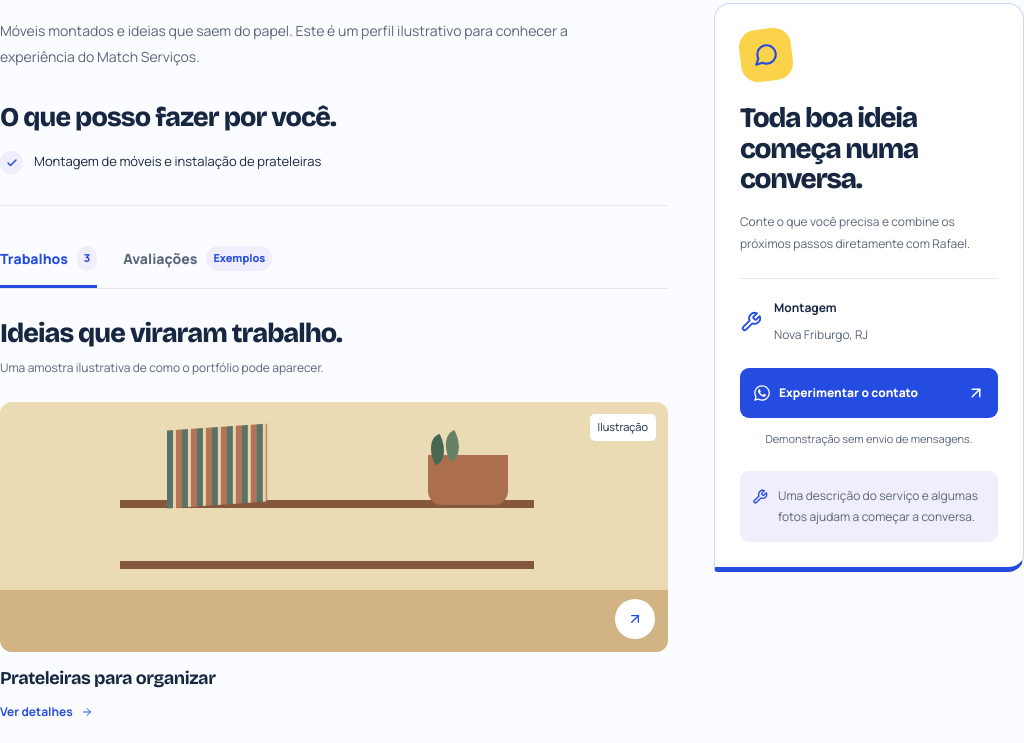
Test case: o contato demonstrativo não envia requisições nem abre WhatsApp
(page scrolled)
Step 1. Click the button "Experimentar o contato" → (869, 393), box top-left (740, 368), bottom-right (998, 418)
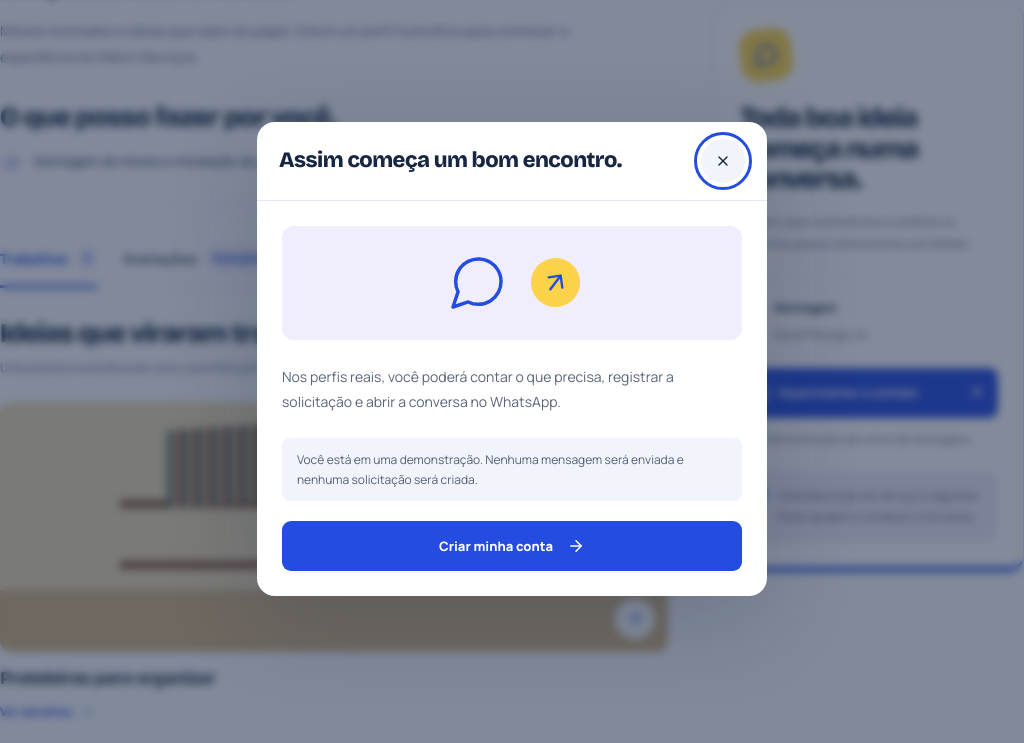
Now the dialog shows "Nenhuma mensagem será enviada e nenhuma solicitação será criada.", box top-left (297, 451), bottom-right (684, 488)
